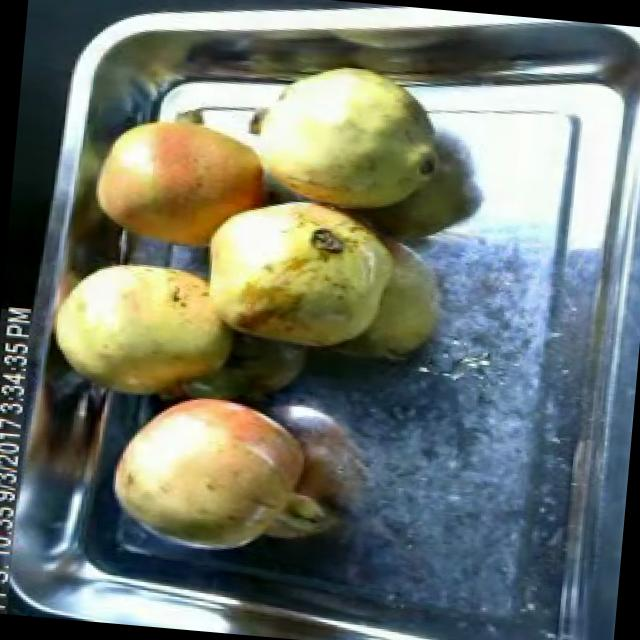fruit: (89, 380, 333, 564), (225, 48, 462, 225), (181, 183, 412, 363), (39, 240, 250, 416), (78, 91, 288, 266)
